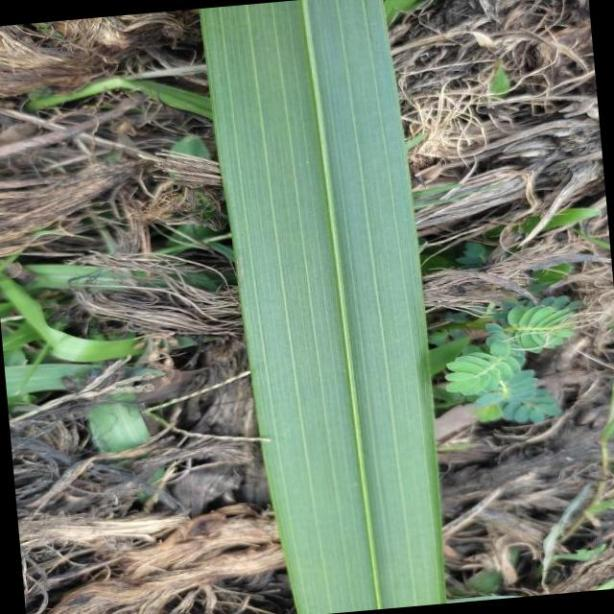Healthy: (198, 5, 443, 614)
